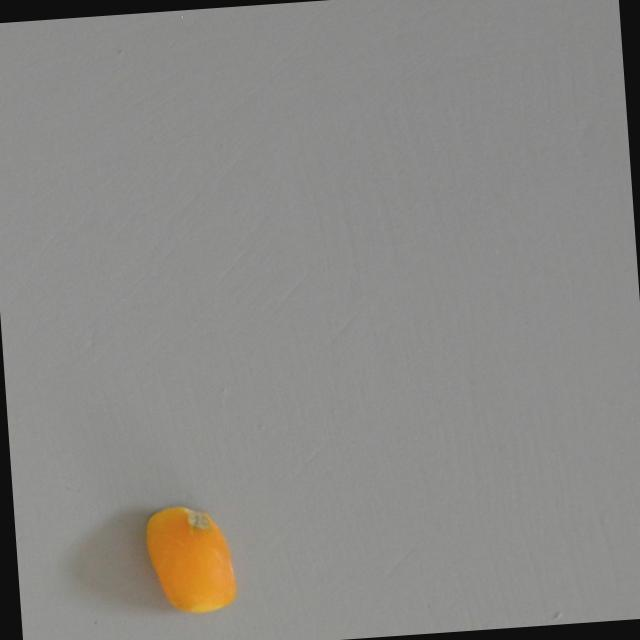dañado: (130, 492, 251, 629)
